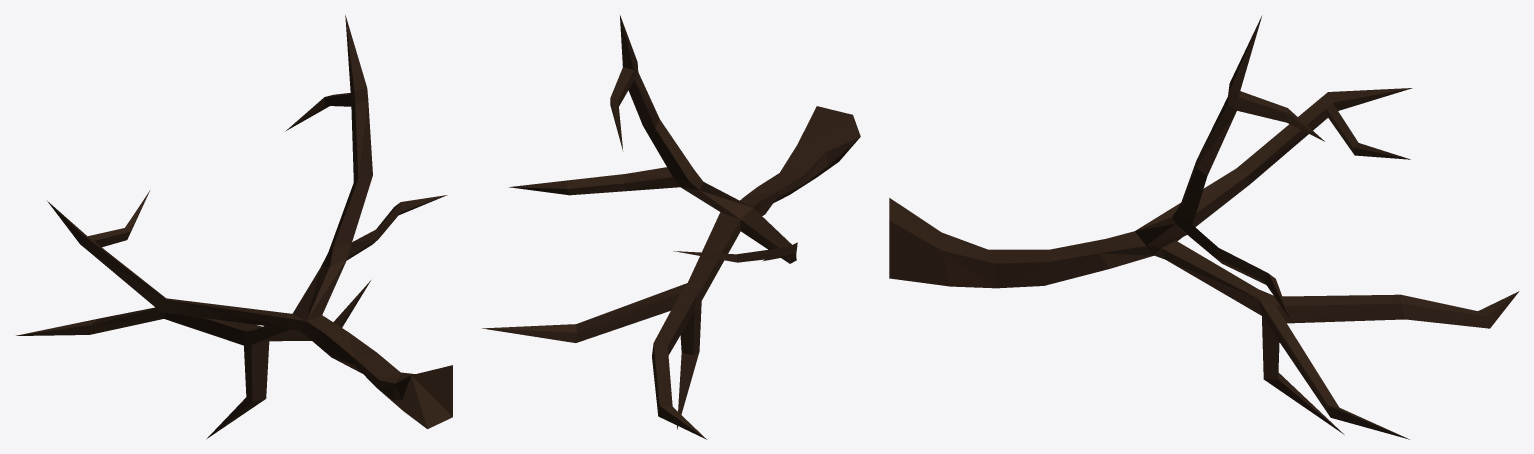
The model's file is Tree_02.FBX.
The picture shows the model from 3 angles, left to right: view 1: azimuth 30°, elevation 25°; view 2: azimuth 150°, elevation 25°; view 3: azimuth 270°, elevation 25°; orthographic projection. The views are drawn at different scales.
Parts seen in each view (by area): view 1: Tree_02; view 2: Tree_02; view 3: Tree_02.
Part boxes in pixels (<box>): Tree_02: <box>16,15,452,439</box>; Tree_02: <box>482,15,860,439</box>; Tree_02: <box>889,15,1519,439</box>.
Bounding box in the file's own units: 6.44 × 7.53 × 9.01.
